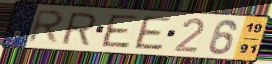2: (172, 17, 207, 54)
6: (207, 18, 239, 56)
E: (100, 14, 141, 50), (133, 16, 174, 52)
R: (25, 9, 67, 45), (59, 11, 98, 46)
